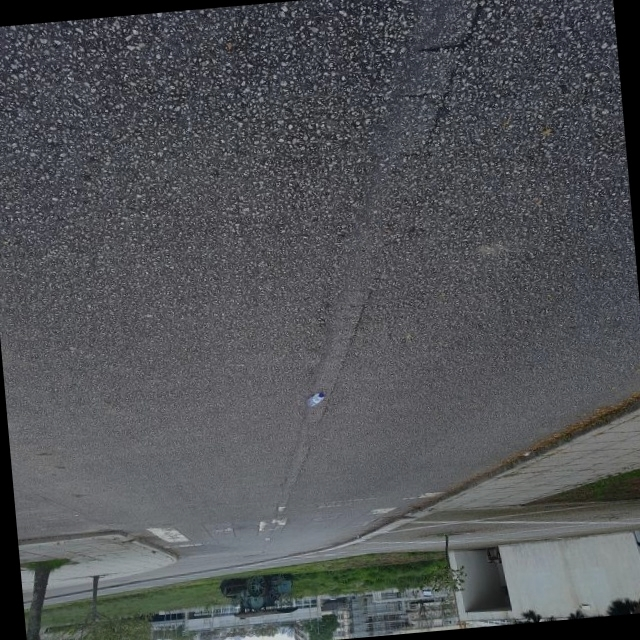Plastic-bottle: (297, 391, 320, 407)
